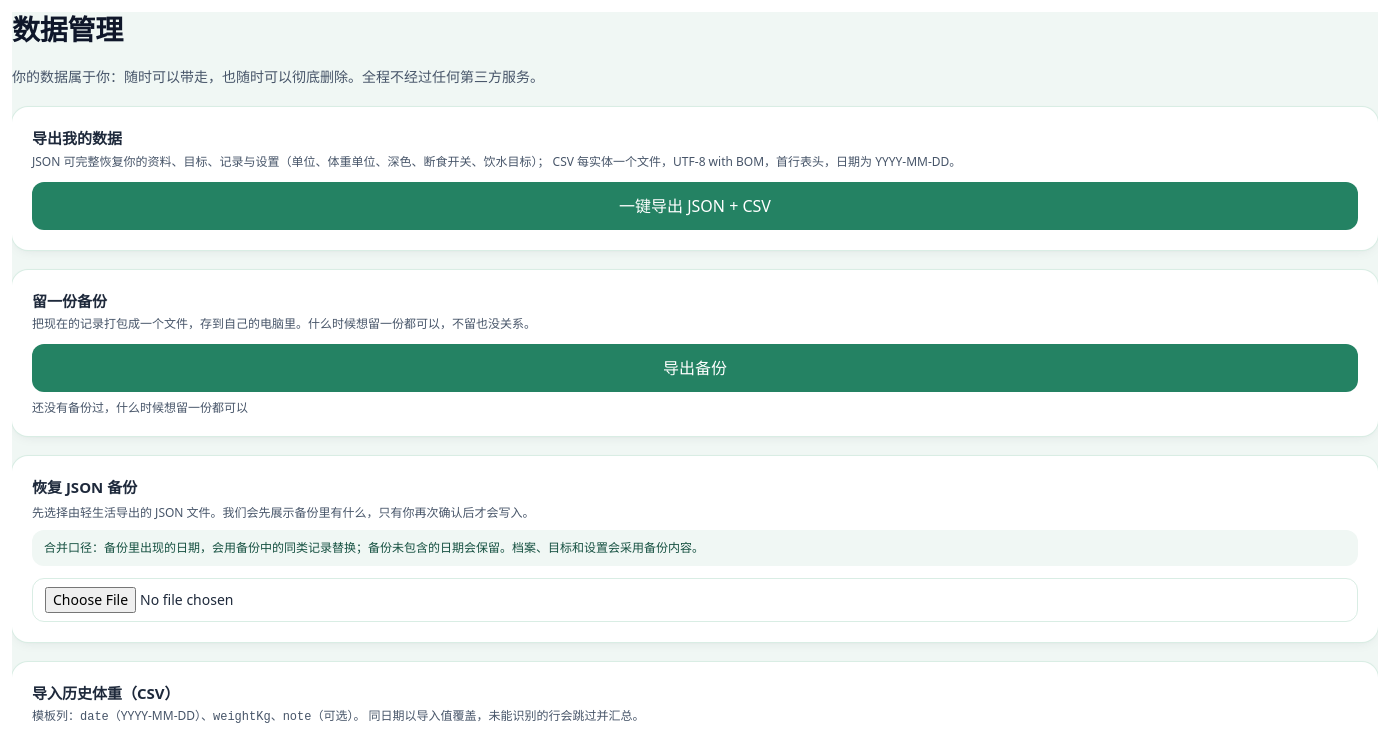
SettingsDataPage 备份（C6） › 拿不到服务端数据 → 如实反馈失败，不写时间戳、不下载
The width and height of the screenshot is (1378, 736).
Step 1. Click the button "导出备份" → point(695, 368), box [32, 344, 1358, 392]
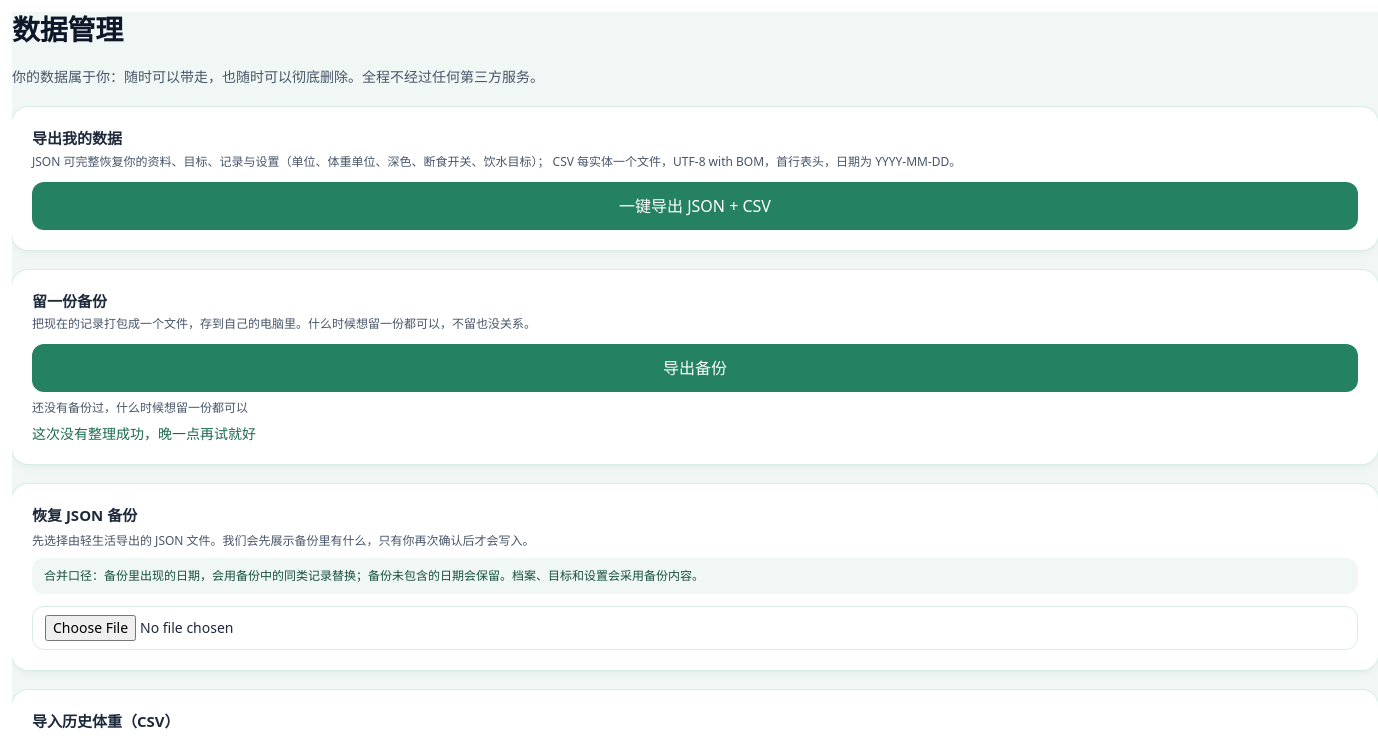
Expected: the text with test id "last-backup" reads "还没有备份过，什么时候想留一份都可以", [32, 399, 248, 416]
Now the text "这次没有整理成功，晚一点再试就好" is shown, box [32, 424, 256, 443]
